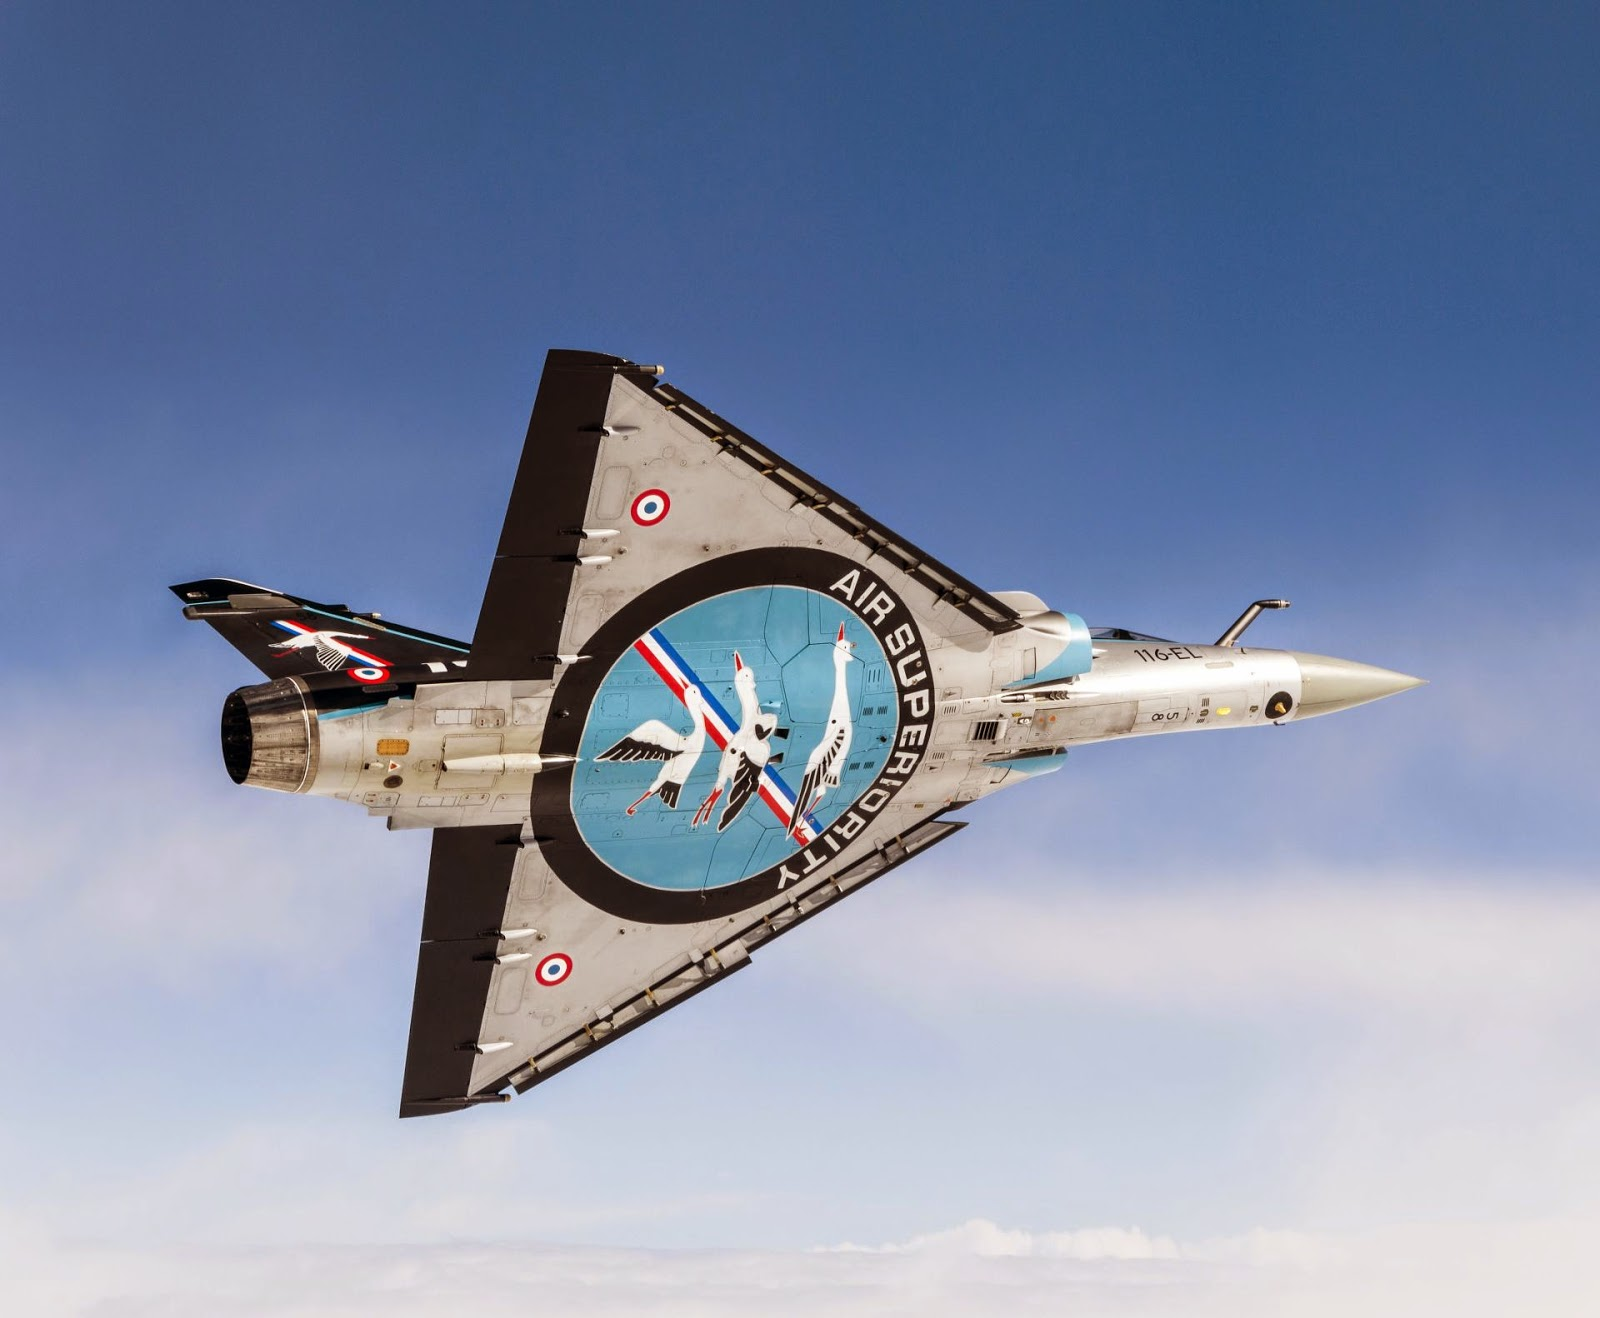Mirage2000: (166, 349, 1429, 1119)
